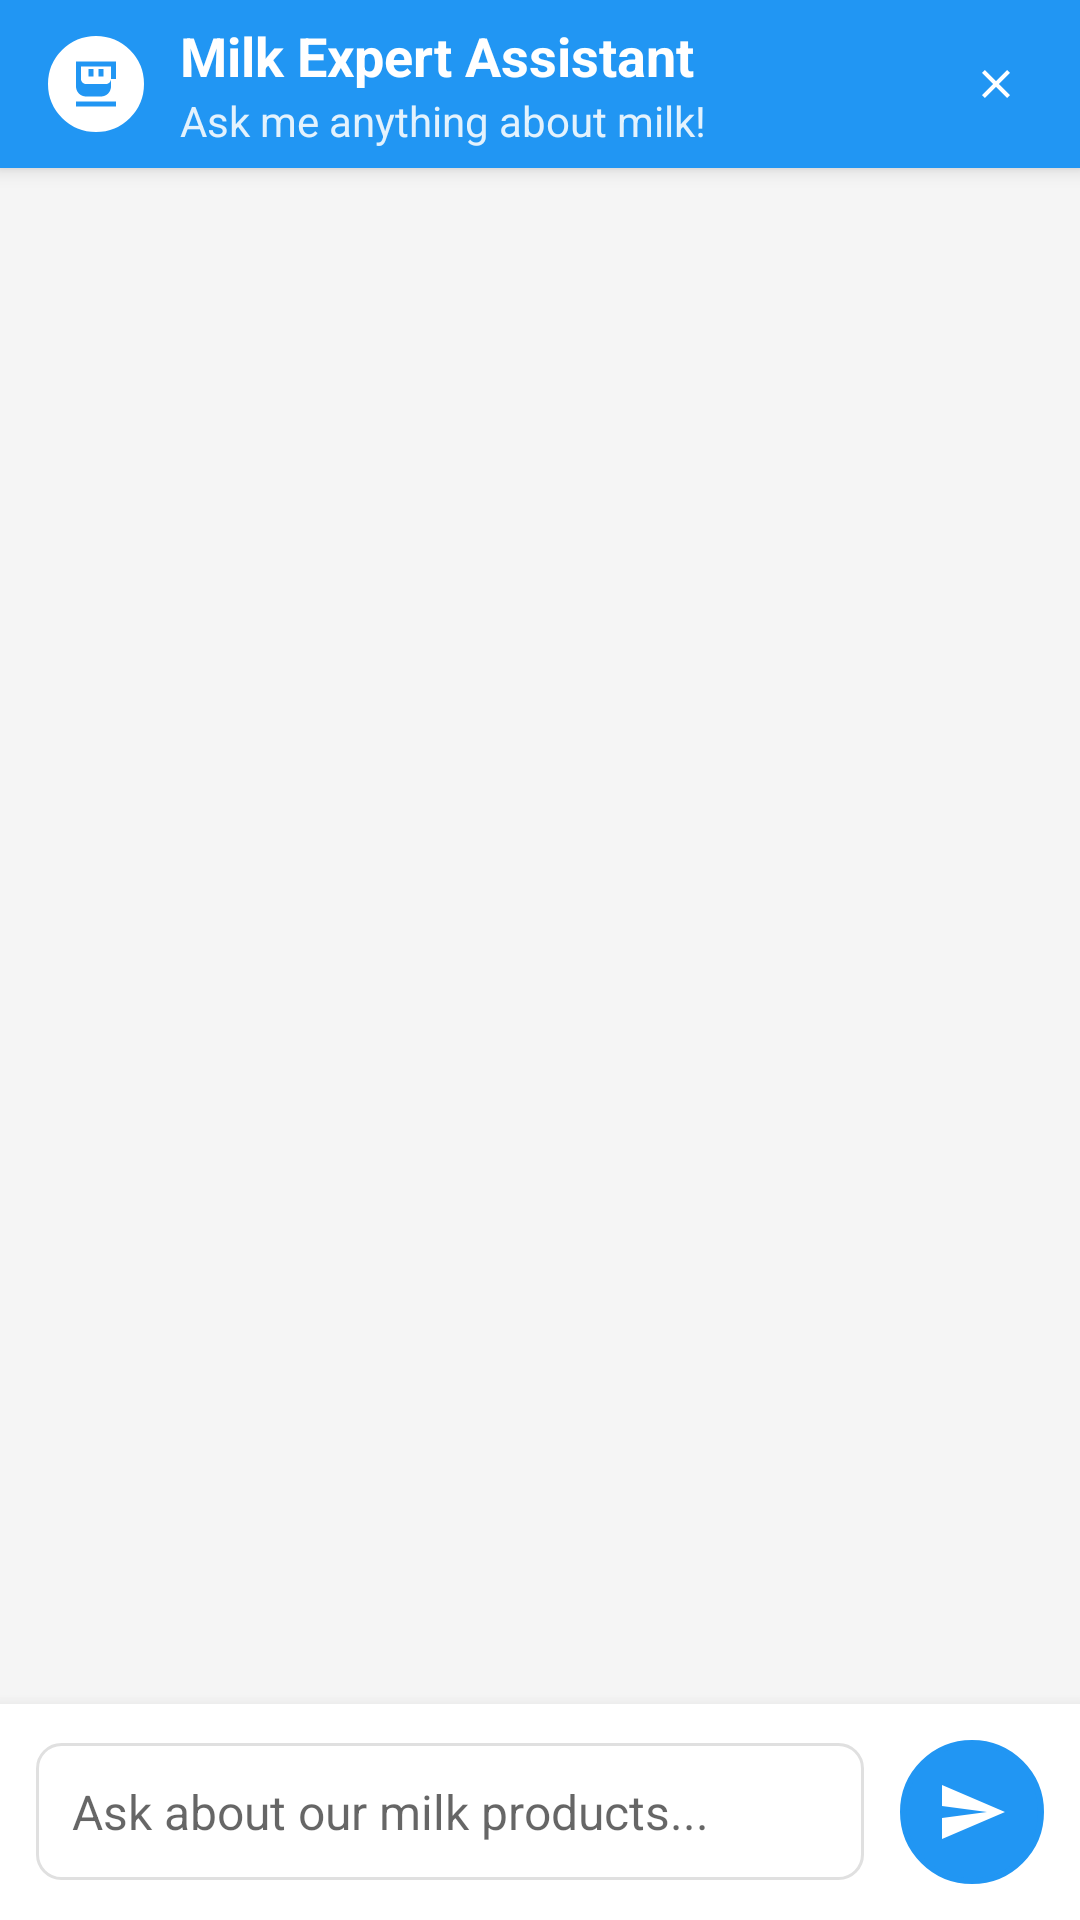

Named icons in this screenshot (1080x1920) and their bounding boxes, (x1, y1, x2, y2):
Send message: (900, 1740, 1044, 1884)
